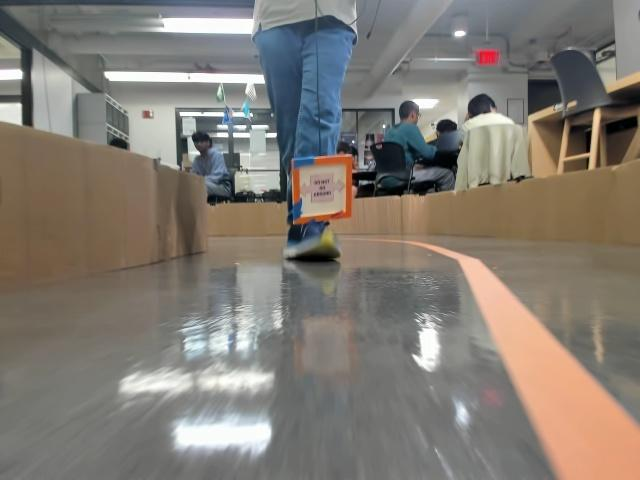Do Not Go Around: (299, 175, 343, 202)
